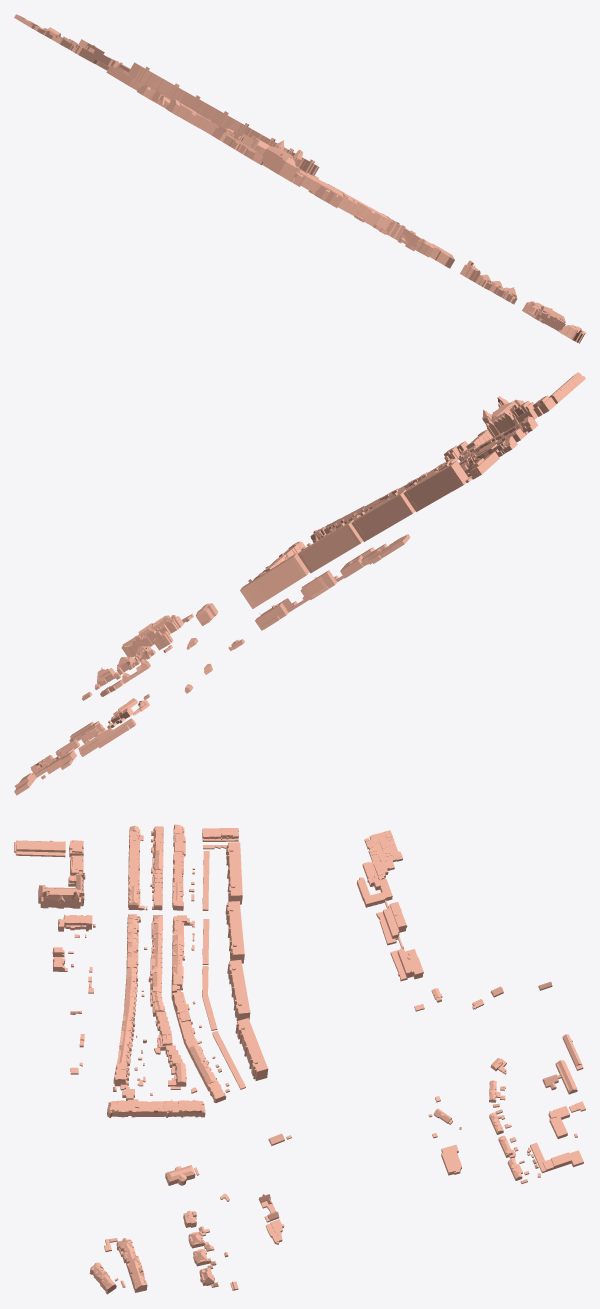
3 views of the same model, one above another, from view 1: azimuth 30°, elevation 25°; view 2: azimuth 150°, elevation 25°; view 3: azimuth 270°, elevation 25° (orthographic). The views are drawn at different scales.
Size of the model in its own units: 501 by 378 by 659.
